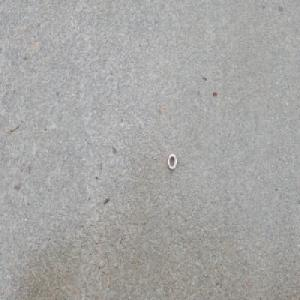Nut: (167, 153, 177, 170)
